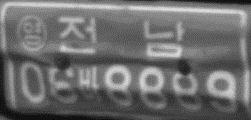0: (18, 59, 46, 104)
6: (47, 65, 77, 104)
8: (102, 64, 134, 107), (139, 66, 168, 111), (172, 70, 202, 112)
9: (205, 70, 237, 113)
바: (78, 66, 103, 102)
영: (16, 14, 48, 52)
전남_D: (57, 15, 185, 58)
